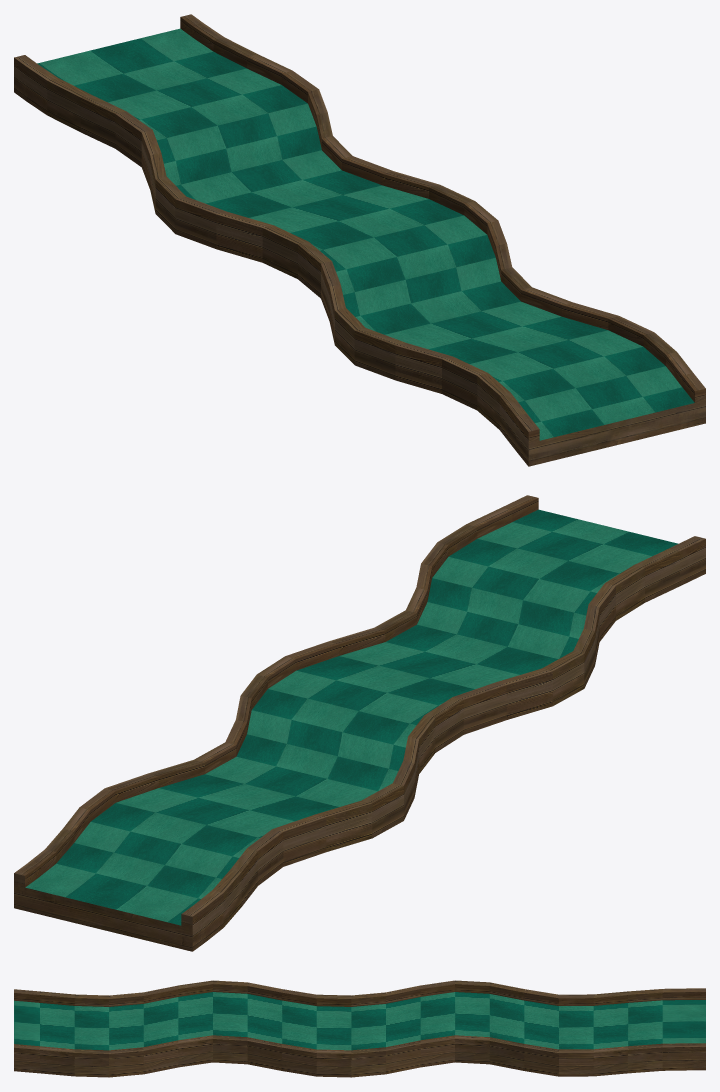
The model's file is PartCurvesLowPoly.gltf.
The picture shows the model from 3 angles, top to bottom: view 1: azimuth 30°, elevation 25°; view 2: azimuth 150°, elevation 25°; view 3: azimuth 270°, elevation 25°; orthographic projection. The views are drawn at different scales.
Visible parts, largest first — view 1: PartCurvesLowPoly_grass_glb, PartCurvesLowPoly_wood_glb; view 2: PartCurvesLowPoly_grass_glb, PartCurvesLowPoly_wood_glb; view 3: PartCurvesLowPoly_grass_glb, PartCurvesLowPoly_wood_glb.
Boxes of the visible parts, box(x1,y1,x2,y2) form: PartCurvesLowPoly_grass_glb: box(37, 28, 694, 440); PartCurvesLowPoly_wood_glb: box(14, 14, 705, 466); PartCurvesLowPoly_grass_glb: box(25, 509, 678, 925); PartCurvesLowPoly_wood_glb: box(14, 495, 705, 951); PartCurvesLowPoly_grass_glb: box(14, 992, 705, 1050); PartCurvesLowPoly_wood_glb: box(14, 980, 705, 1077).
Size of what is drawn, in the model's own units: 5.03 by 0.75 by 20.
2 materials, 2 textured.
